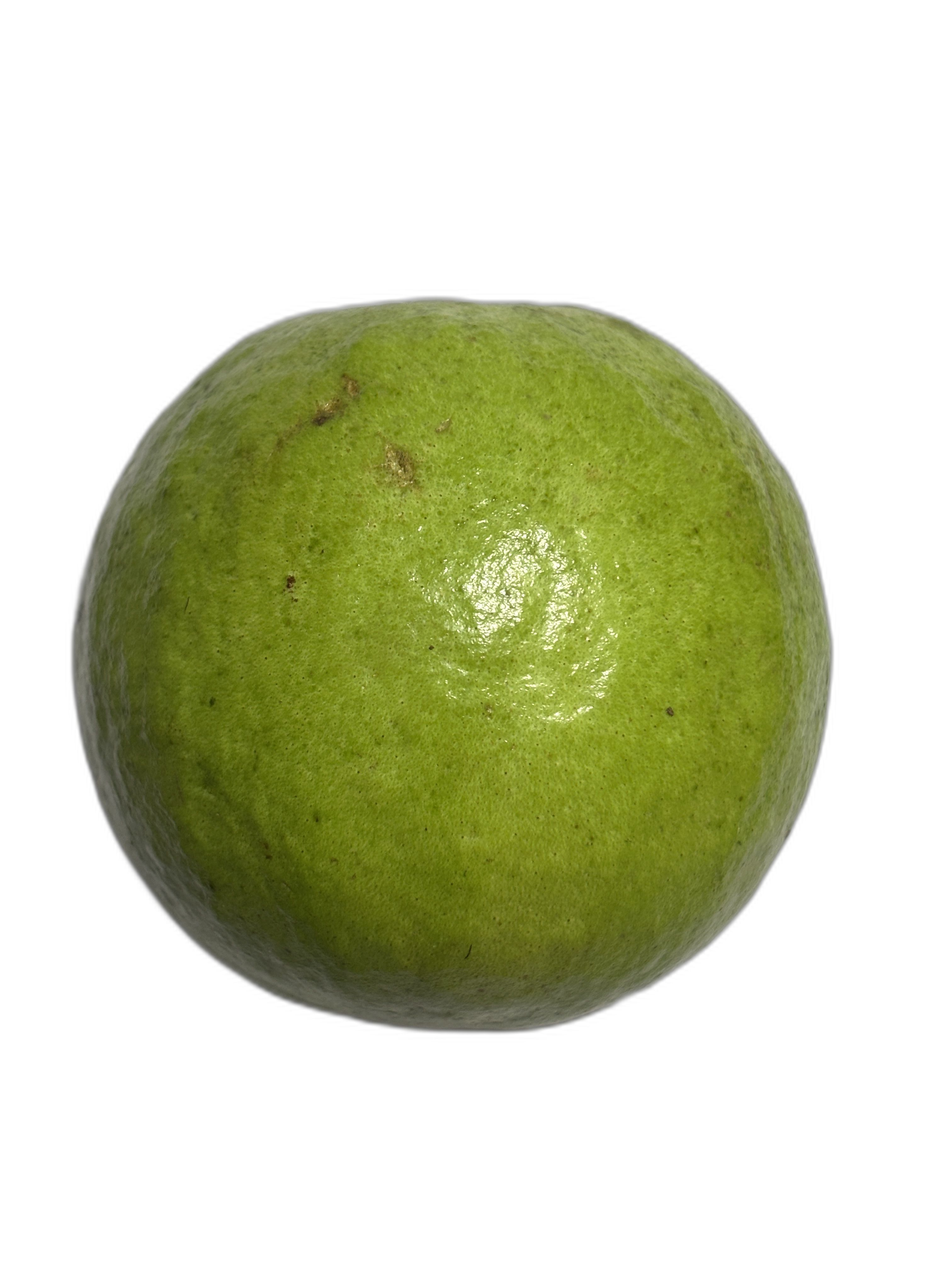guava: (89, 155, 946, 969)
